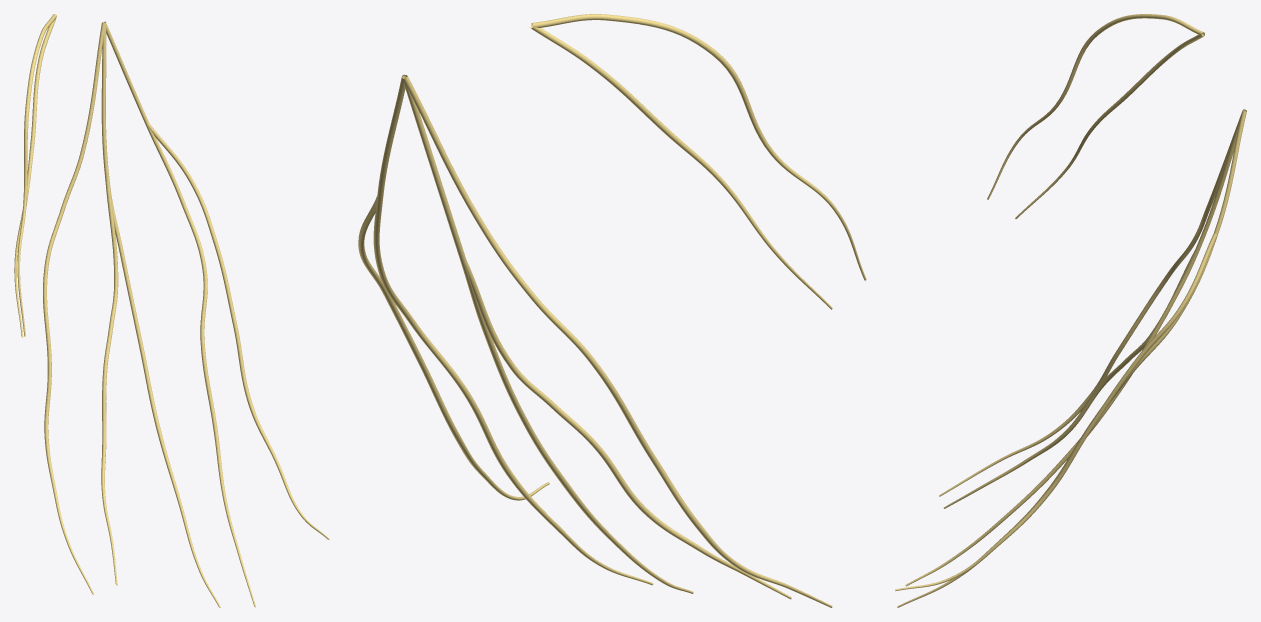
The picture shows the model from 3 angles, left to right: view 1: azimuth 30°, elevation 25°; view 2: azimuth 150°, elevation 25°; view 3: azimuth 270°, elevation 25°; orthographic projection. The views are drawn at different scales.
Parts seen in each view (by area): view 1: ZA_b1dee35e63885c02; view 2: ZA_b1dee35e63885c02; view 3: ZA_b1dee35e63885c02.
Boxes of the visible parts, <box> form: ZA_b1dee35e63885c02: <box>14,14,329,607</box>; ZA_b1dee35e63885c02: <box>358,14,866,607</box>; ZA_b1dee35e63885c02: <box>895,14,1246,607</box>.
Size of the model in its own units: 0.0721 by 0.1326 by 0.0774.
